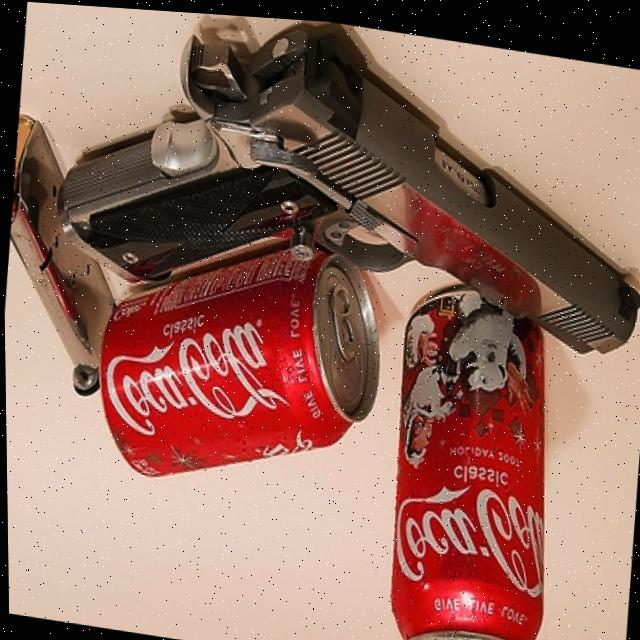pistol: (50, 3, 640, 357)
